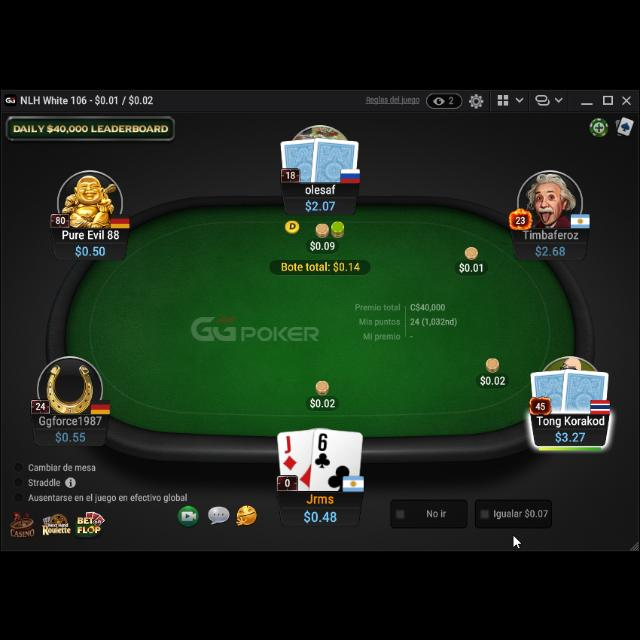6c: (314, 429, 332, 468)
Jd: (282, 431, 300, 469)
bet_text: (308, 238, 336, 252), (309, 238, 336, 252), (310, 238, 336, 252), (458, 258, 484, 272), (478, 373, 508, 385), (310, 395, 336, 407)
card_back: (560, 364, 612, 416), (310, 132, 362, 182), (278, 134, 322, 180), (528, 365, 570, 413)
dealer: (285, 216, 301, 234)
pot_text: (279, 258, 363, 272)
stack_text: (302, 504, 338, 522), (554, 426, 586, 442), (534, 240, 566, 256), (55, 426, 87, 442), (304, 196, 336, 210), (74, 240, 106, 254)
